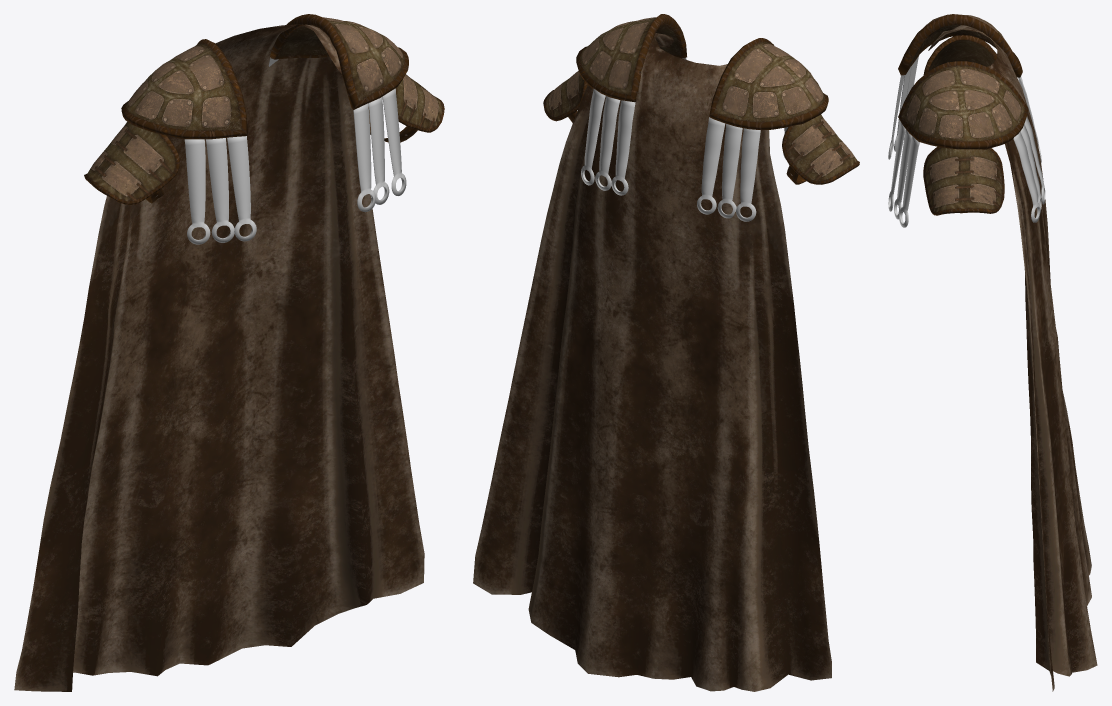
Rendered from dunland_caerdh_pauldron_elite_cape_a.fbx.
3 renders of one model, left to right at view 1: azimuth 30°, elevation 25°; view 2: azimuth 150°, elevation 25°; view 3: azimuth 270°, elevation 25°, orthographic. The views are drawn at different scales.
Parts seen in each view (by area): view 1: dunland_caerdh_pauldron_elite_cape_a.cape, dunland_caerdh_pauldron_elite_cape_a, dunland_caerdh_pauldron_elite_cape_a.straps; view 2: dunland_caerdh_pauldron_elite_cape_a.cape, dunland_caerdh_pauldron_elite_cape_a, dunland_caerdh_pauldron_elite_cape_a.straps; view 3: dunland_caerdh_pauldron_elite_cape_a.cape, dunland_caerdh_pauldron_elite_cape_a, dunland_caerdh_pauldron_elite_cape_a.straps.
Part boxes in pixels (x1,y1,x2,y2): dunland_caerdh_pauldron_elite_cape_a.cape: (14, 24, 424, 691); dunland_caerdh_pauldron_elite_cape_a: (84, 14, 444, 204); dunland_caerdh_pauldron_elite_cape_a.straps: (184, 57, 406, 244); dunland_caerdh_pauldron_elite_cape_a.cape: (473, 33, 831, 691); dunland_caerdh_pauldron_elite_cape_a: (543, 14, 859, 184); dunland_caerdh_pauldron_elite_cape_a.straps: (581, 58, 788, 221); dunland_caerdh_pauldron_elite_cape_a.cape: (928, 25, 1097, 691); dunland_caerdh_pauldron_elite_cape_a: (898, 14, 1028, 215); dunland_caerdh_pauldron_elite_cape_a.straps: (888, 56, 1045, 227).
Bounding box in the file's own units: 0.9531 × 0.4805 × 1.54.
